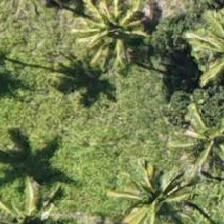coconut_tree: (70, 0, 160, 78), (109, 149, 199, 223), (168, 95, 223, 185)
